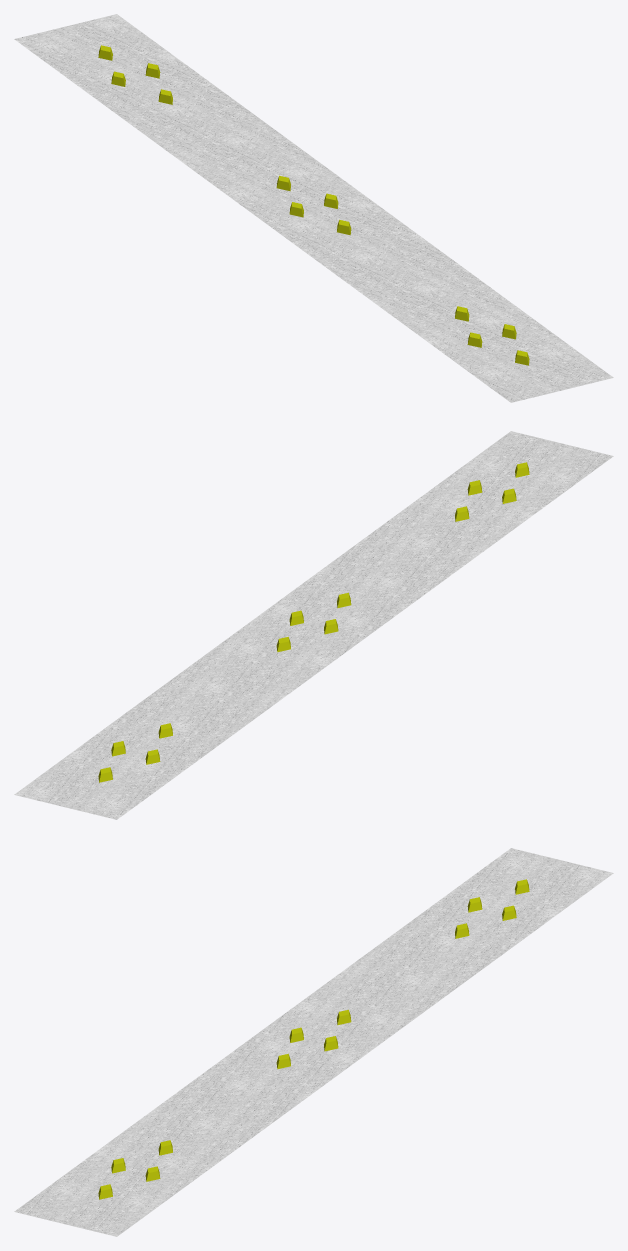
The model's file is sol universelles.fbx.
3 renders of one model, top to bottom at view 1: azimuth 30°, elevation 25°; view 2: azimuth 150°, elevation 25°; view 3: azimuth 330°, elevation 25°, orthographic.
Parts seen in each view (by area): view 1: Cube; view 2: Cube; view 3: Cube.
Part boxes in pixels (x1=…): Cube: x1=14, y1=14, x2=613, y2=402; Cube: x1=14, y1=431, x2=613, y2=819; Cube: x1=14, y1=848, x2=613, y2=1236.
Size of the model in its own units: 128 by 8.72 by 1069.
